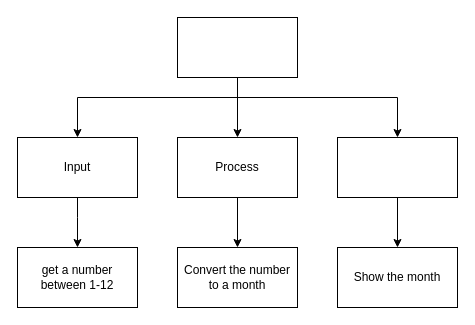
This 475x325 diagram has some shape labels left out. Here are the shapes that lost their labels. From the top down, the box of each, then its label:
(176, 16, 298, 78): Number to month
(336, 136, 458, 198): Output
